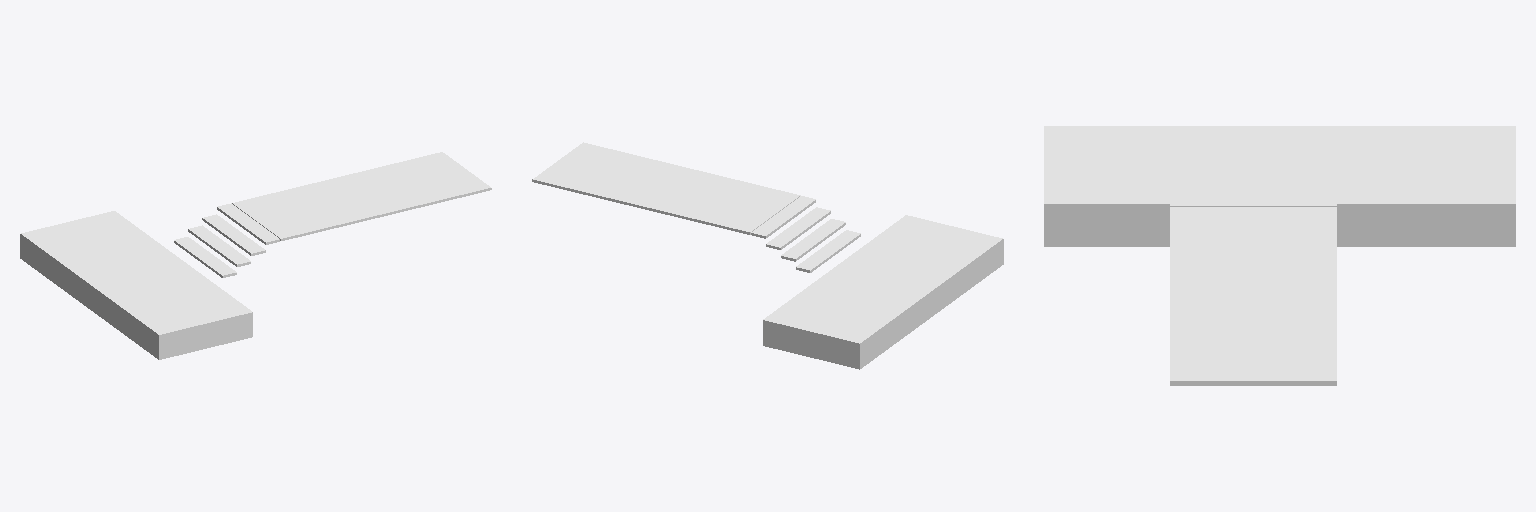
URDF robot description (stair_bauzil):
<robot name="stair_bauzil">
  <link name="base_link">
    <visual>
      <origin xyz="0 0 0" rpy="0 0 0" />
      <geometry>
        <mesh filename="package://hpp-rbprm-corba/meshes/stair_bauzil.stl"/>
      </geometry>
      <material name="white">
        <color rgba="1 1 1 1"/>
      </material>
    </visual>
    <collision>
      <origin xyz="0 0 0" rpy="0 0 0" />
      <geometry>
        <mesh filename="package://hpp-rbprm-corba/meshes/stair_bauzil_reduced.stl"/>
      </geometry>
    </collision>
  </link>
</robot>

--- Facts derived from the render (not from the file) ---
Views: 3 orthographic renders of the robot side by side, from view 1: azimuth 30°, elevation 25°; view 2: azimuth 150°, elevation 25°; view 3: azimuth 270°, elevation 25°.
Model stair_bauzil with 1 links and 0 joints (none), rooted at base_link, posed every joint at zero.
Links seen in each view (by area): view 1: base_link; view 2: base_link; view 3: base_link.
Boxes of the visible links, left/top/right/bottom form: base_link: left=20, top=152, right=491, bottom=359; base_link: left=532, top=142, right=1003, bottom=369; base_link: left=1044, top=126, right=1515, bottom=385.
Bounding box of the posed robot: 7.69 × 5 × 1.1 m (x, y, z).
1 mesh visuals loaded from 1 distinct referenced files (1 binary STL).